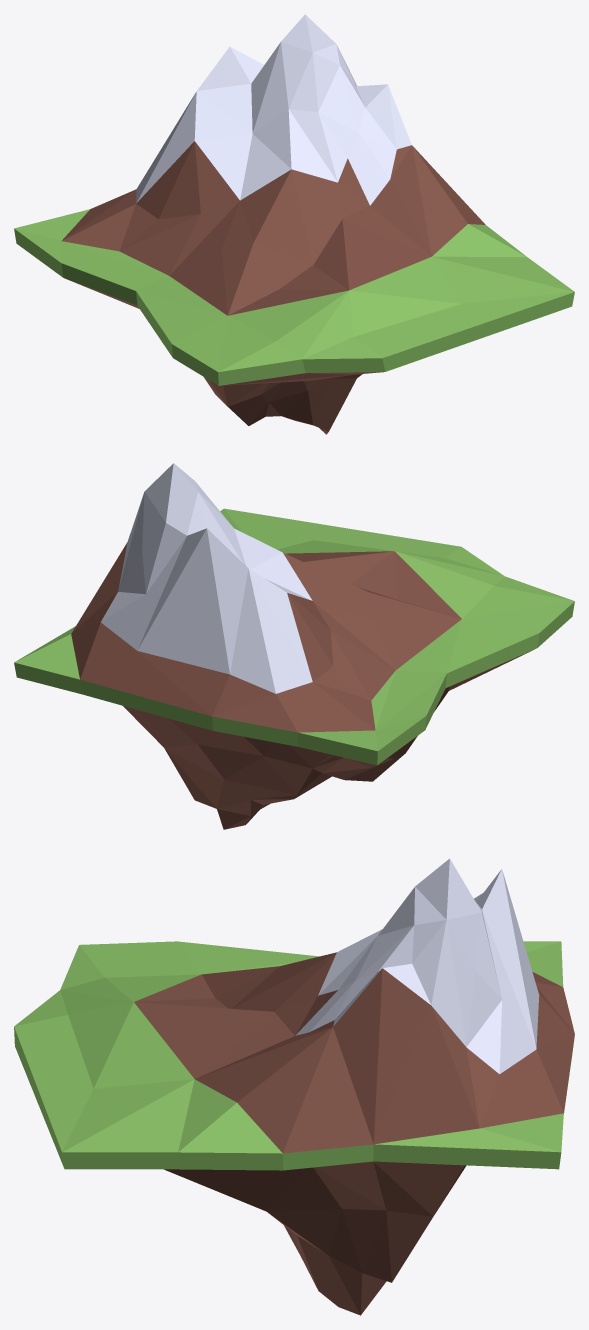
The model's file is Island13_tex.fbx.
3 views of the same model, one above another, from view 1: azimuth 30°, elevation 25°; view 2: azimuth 150°, elevation 25°; view 3: azimuth 270°, elevation 25° (orthographic). The views are drawn at different scales.
Parts seen in each view (by area): view 1: Island13_tex; view 2: Island13_tex; view 3: Island13_tex.
Part boxes in pixels (x1,y1,x2,y2): Island13_tex: [14, 14, 574, 434]; Island13_tex: [14, 463, 574, 829]; Island13_tex: [14, 858, 574, 1315].
Bounding box in the file's own units: 4.74 × 4.84 × 5.3.
